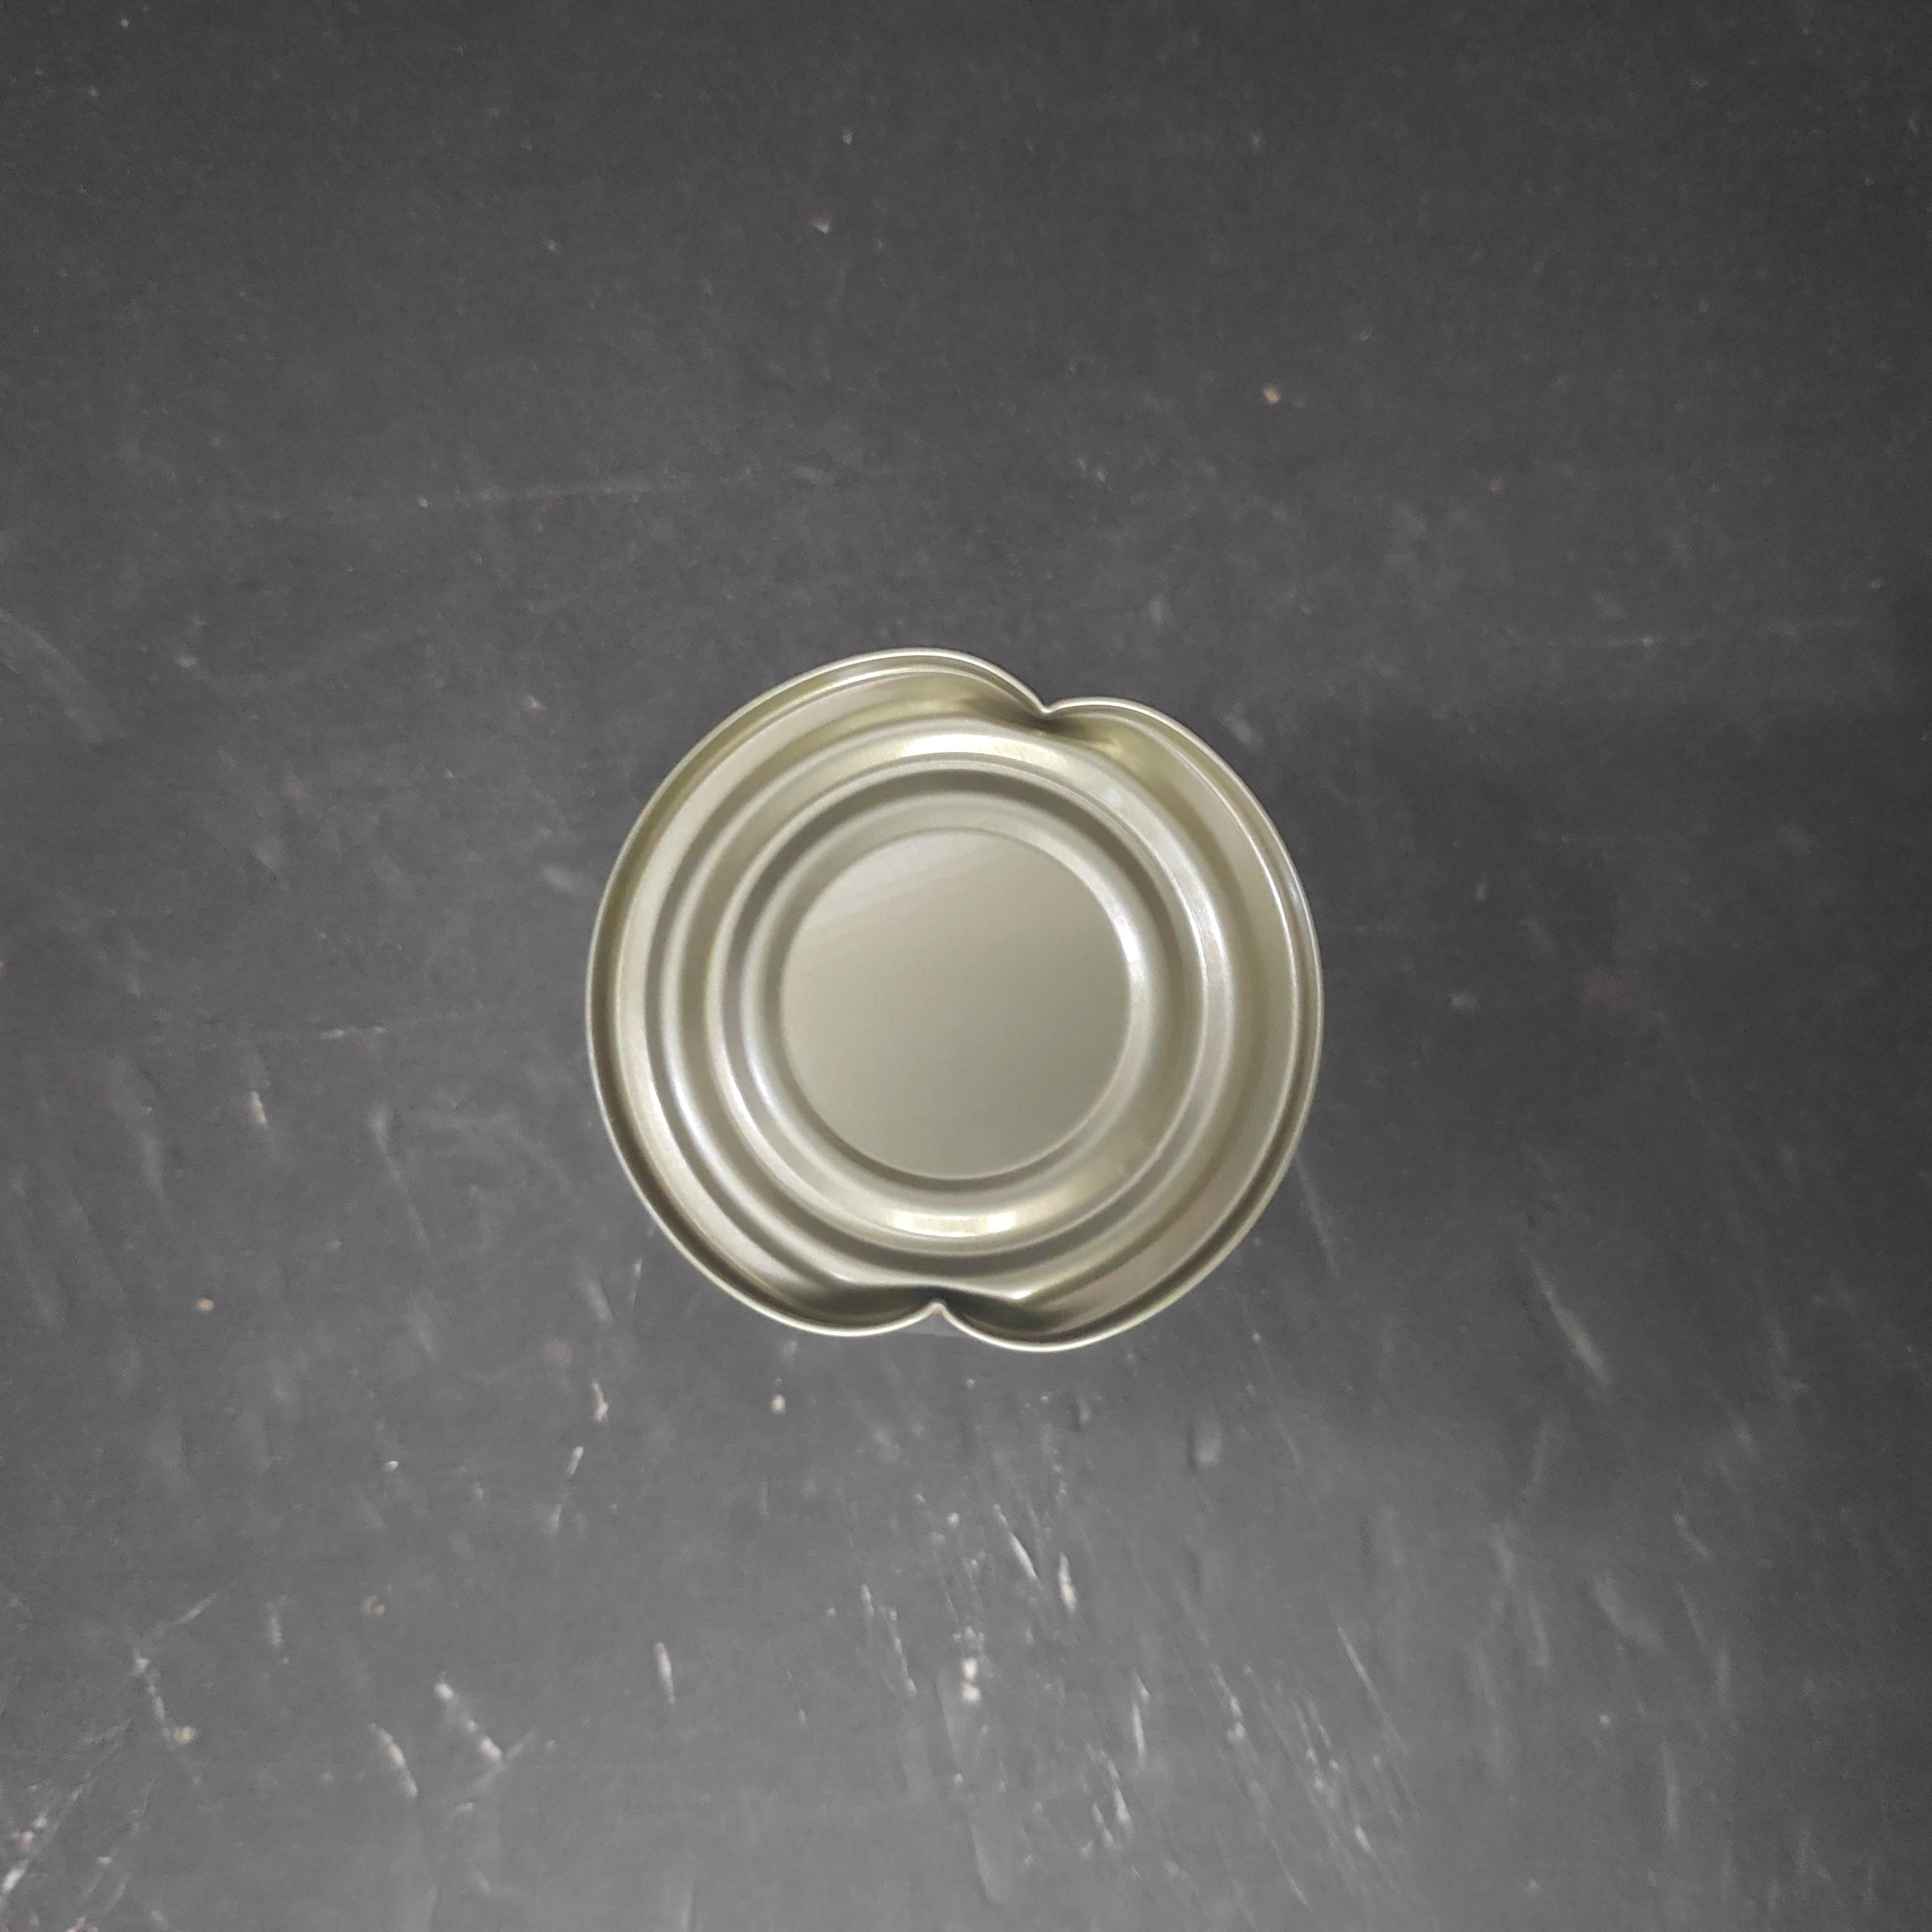Critical Defect: (563, 579, 1294, 1328)
